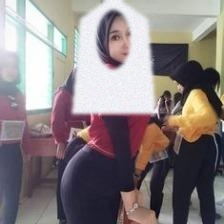Mukena: (71, 0, 156, 113)
